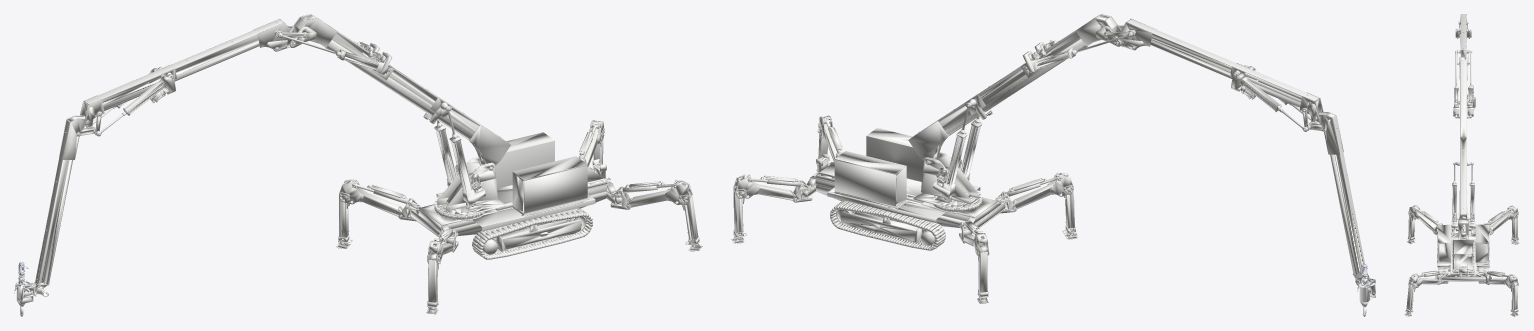
Rendered from GL-3DPRT-SP-M.glb.
3 views of the same model, side by side, from view 1: azimuth 30°, elevation 25°; view 2: azimuth 150°, elevation 25°; view 3: azimuth 270°, elevation 25° (orthographic). The views are drawn at different scales.
Visible parts, largest first — view 1: Body90; view 2: Body90; view 3: Body90.
Part boxes in pixels (box(x1,y1,x2,y2)): Body90: box(14, 14, 702, 316); Body90: box(731, 14, 1375, 316); Body90: box(1404, 14, 1519, 316).
Size of the model in its own units: 12.47 by 5.37 by 3.43.
Materials: 1 (1 with a texture image).
